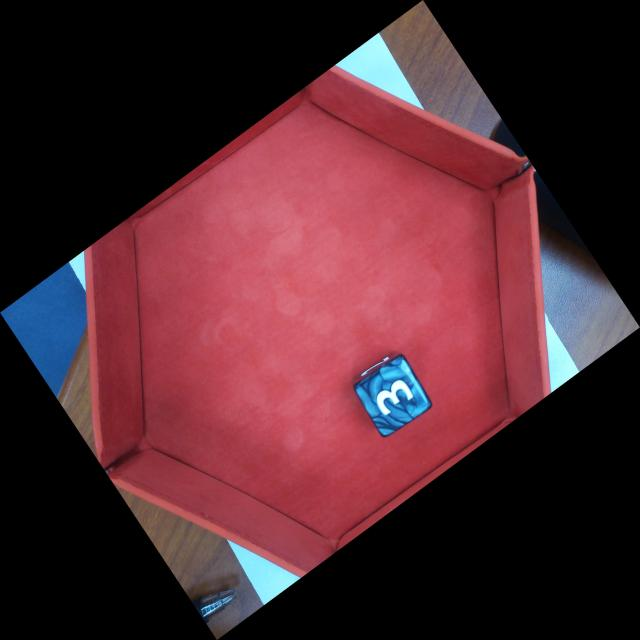dice: (352, 353, 435, 441)
